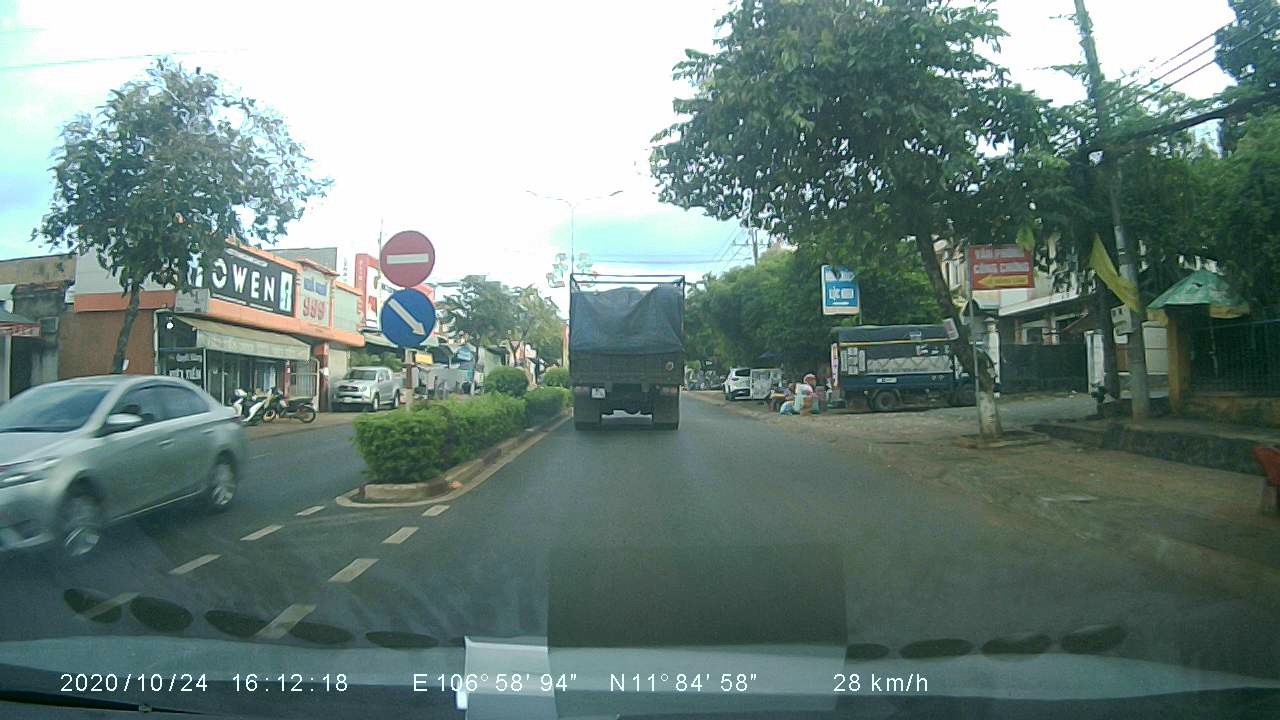Cam di nguoc chieu: (378, 226, 439, 286)
Huong di phai re phai: (377, 290, 440, 348)
